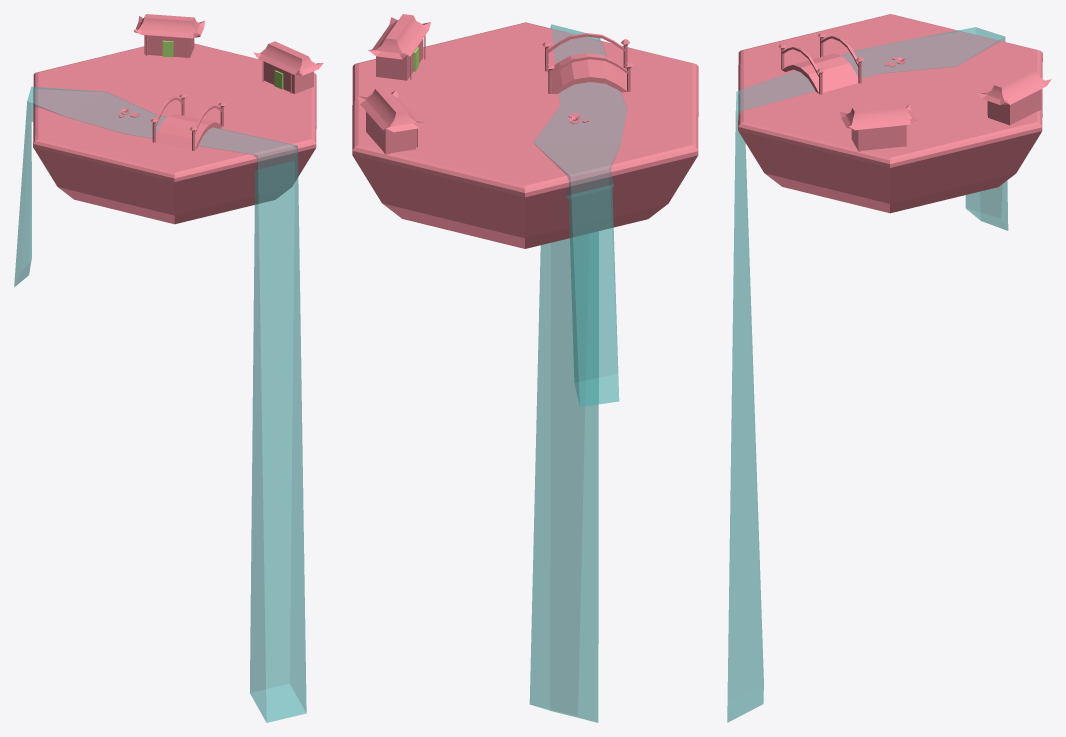
File: Asset_Biome_China_03.fbx
The picture shows the model from 3 angles, left to right: view 1: azimuth 30°, elevation 25°; view 2: azimuth 150°, elevation 25°; view 3: azimuth 270°, elevation 25°; orthographic projection. The views are drawn at different scales.
Parts seen in each view (by area): view 1: Asset_Tile_China, PolySurface_Water, pCube2, pCube3, PolySurface_Bridge; view 2: Asset_Tile_China, PolySurface_Water, PolySurface_Bridge, pCube2, pCube3; view 3: Asset_Tile_China, PolySurface_Water, pCube3, pCube2, PolySurface_Bridge.
Part boxes in pixels (left/top/right/bottom): Asset_Tile_China: left=33, top=43, right=316, bottom=224; PolySurface_Water: left=14, top=86, right=306, bottom=722; pCube2: left=133, top=14, right=204, bottom=58; pCube3: left=253, top=41, right=323, bottom=93; PolySurface_Bridge: left=150, top=93, right=225, bottom=150; Asset_Tile_China: left=352, top=22, right=698, bottom=248; PolySurface_Water: left=529, top=24, right=626, bottom=722; PolySurface_Bridge: left=542, top=33, right=633, bottom=93; pCube2: left=357, top=87, right=424, bottom=154; pCube3: left=368, top=14, right=430, bottom=80; Asset_Tile_China: left=738, top=14, right=1042, bottom=213; PolySurface_Water: left=727, top=27, right=1008, bottom=722; pCube3: left=840, top=102, right=917, bottom=151; pCube2: left=978, top=68, right=1051, bottom=125; PolySurface_Bridge: left=778, top=32, right=863, bottom=94.
Size of the model in its own units: 436 by 881 by 403.
